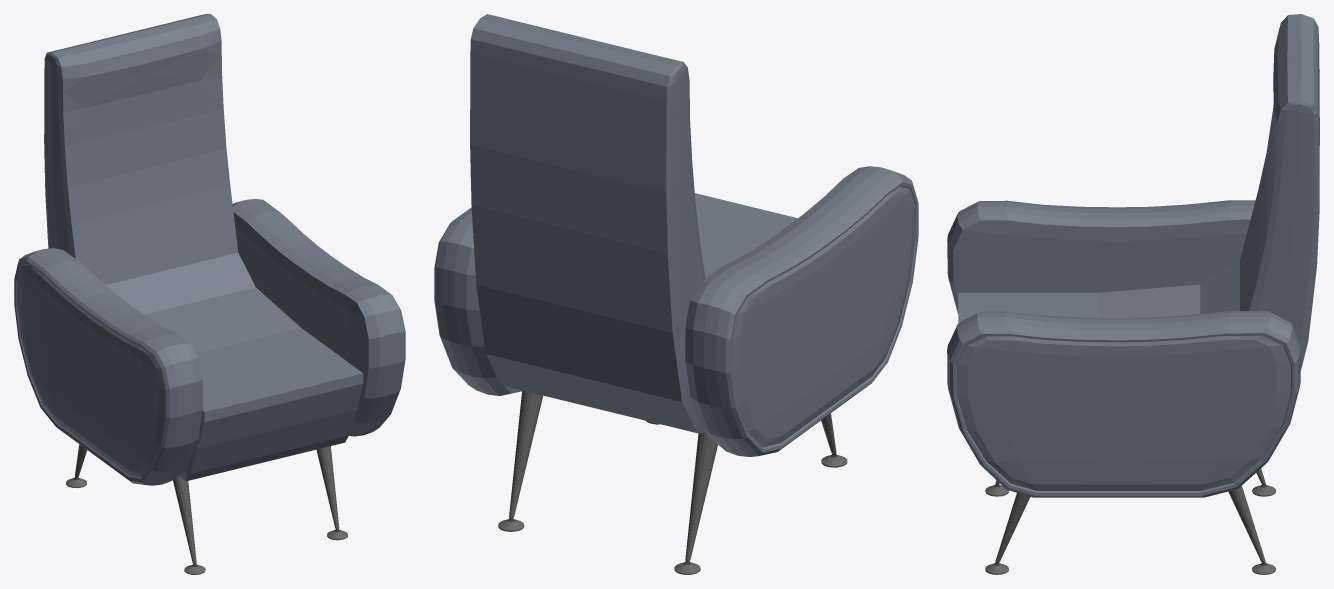
File: sweethome3d-scopia-armchair.glb
3 renders of one model, left to right at view 1: azimuth 30°, elevation 25°; view 2: azimuth 150°, elevation 25°; view 3: azimuth 270°, elevation 25°, orthographic. The views are drawn at different scales.
Visible parts, largest first — view 1: sofa_zul_Cube.040_sof, sofa_zul_potas_Tu; view 2: sofa_zul_Cube.040_sof, sofa_zul_potas_Tu; view 3: sofa_zul_Cube.040_sof, sofa_zul_potas_Tu.
Boxes of the visible parts, left/top/right/bottom form: sofa_zul_Cube.040_sof: left=14, top=14, right=405, bottom=485; sofa_zul_potas_Tu: left=66, top=444, right=347, bottom=574; sofa_zul_Cube.040_sof: left=434, top=14, right=918, bottom=456; sofa_zul_potas_Tu: left=498, top=390, right=847, bottom=574; sofa_zul_Cube.040_sof: left=947, top=14, right=1319, bottom=497; sofa_zul_potas_Tu: left=985, top=468, right=1275, bottom=574.
Size of the model in its own units: 0.5715 by 0.949 by 0.6771.
